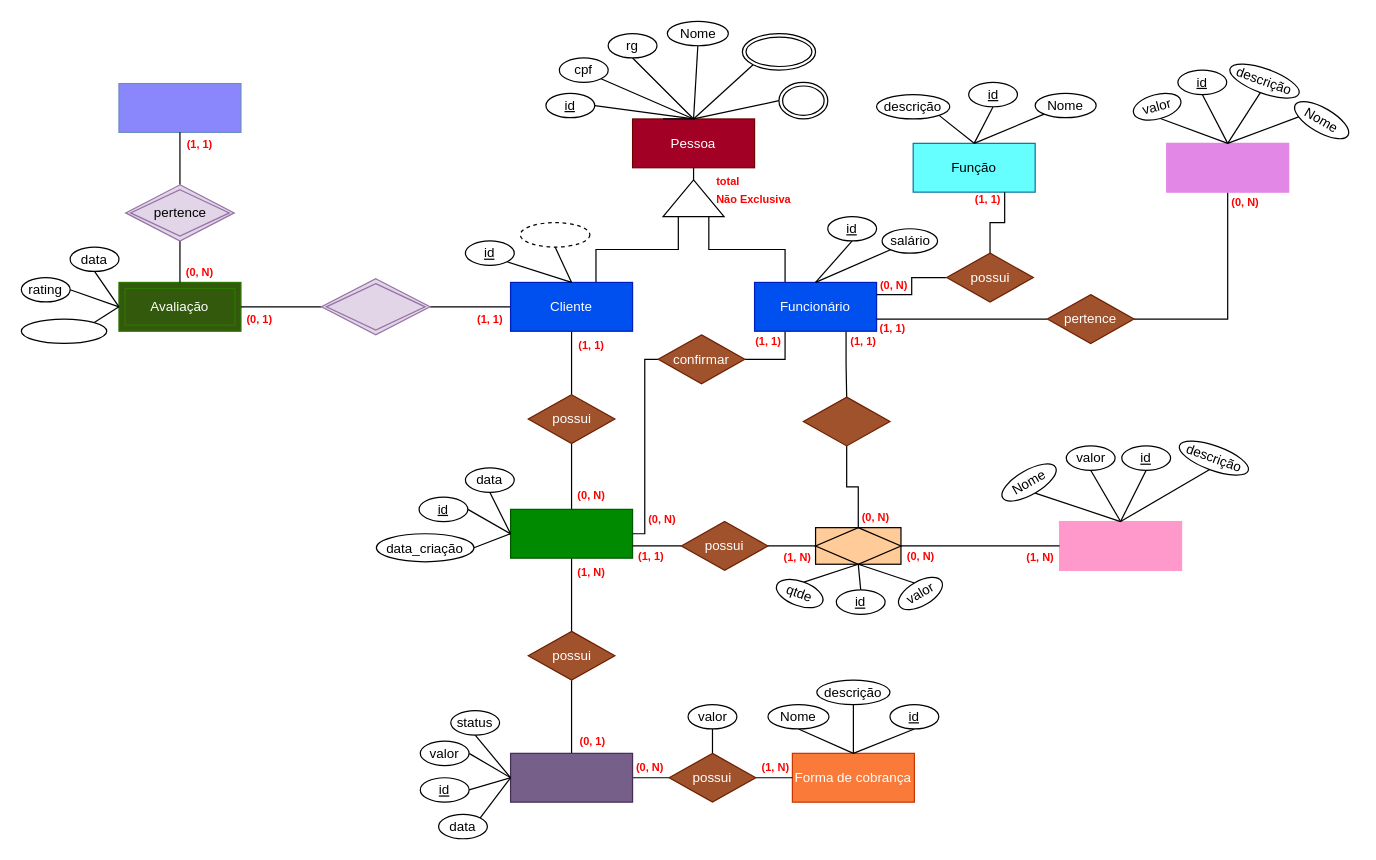
Some shapes in this 1376 by 860 pixel diagram are drawn without their labels. Each missing label, with the centre of its shape:
Bar do Jânio: point (179, 107)
Cobrança: point (571, 777)
comentários: point (63, 330)
efetuam: point (375, 306)
email: point (803, 100)
n_vendas: point (554, 234)
Pagamento: point (1227, 167)
pedido: point (857, 545)
Produto: point (1120, 545)
registra: point (846, 421)
telefone: point (778, 51)
Venda: point (571, 533)
